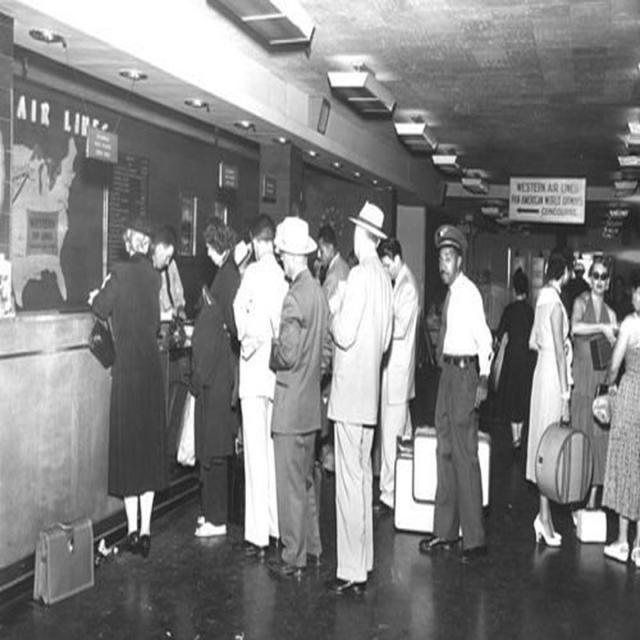body: (82, 201, 165, 564), (323, 198, 395, 602), (414, 220, 497, 563), (262, 210, 336, 586), (232, 212, 290, 561), (524, 244, 576, 550), (367, 233, 423, 517), (569, 250, 622, 534), (592, 274, 639, 572), (491, 266, 539, 456), (185, 214, 242, 362), (316, 224, 351, 304), (309, 246, 353, 280), (149, 227, 177, 270), (235, 230, 264, 269)
